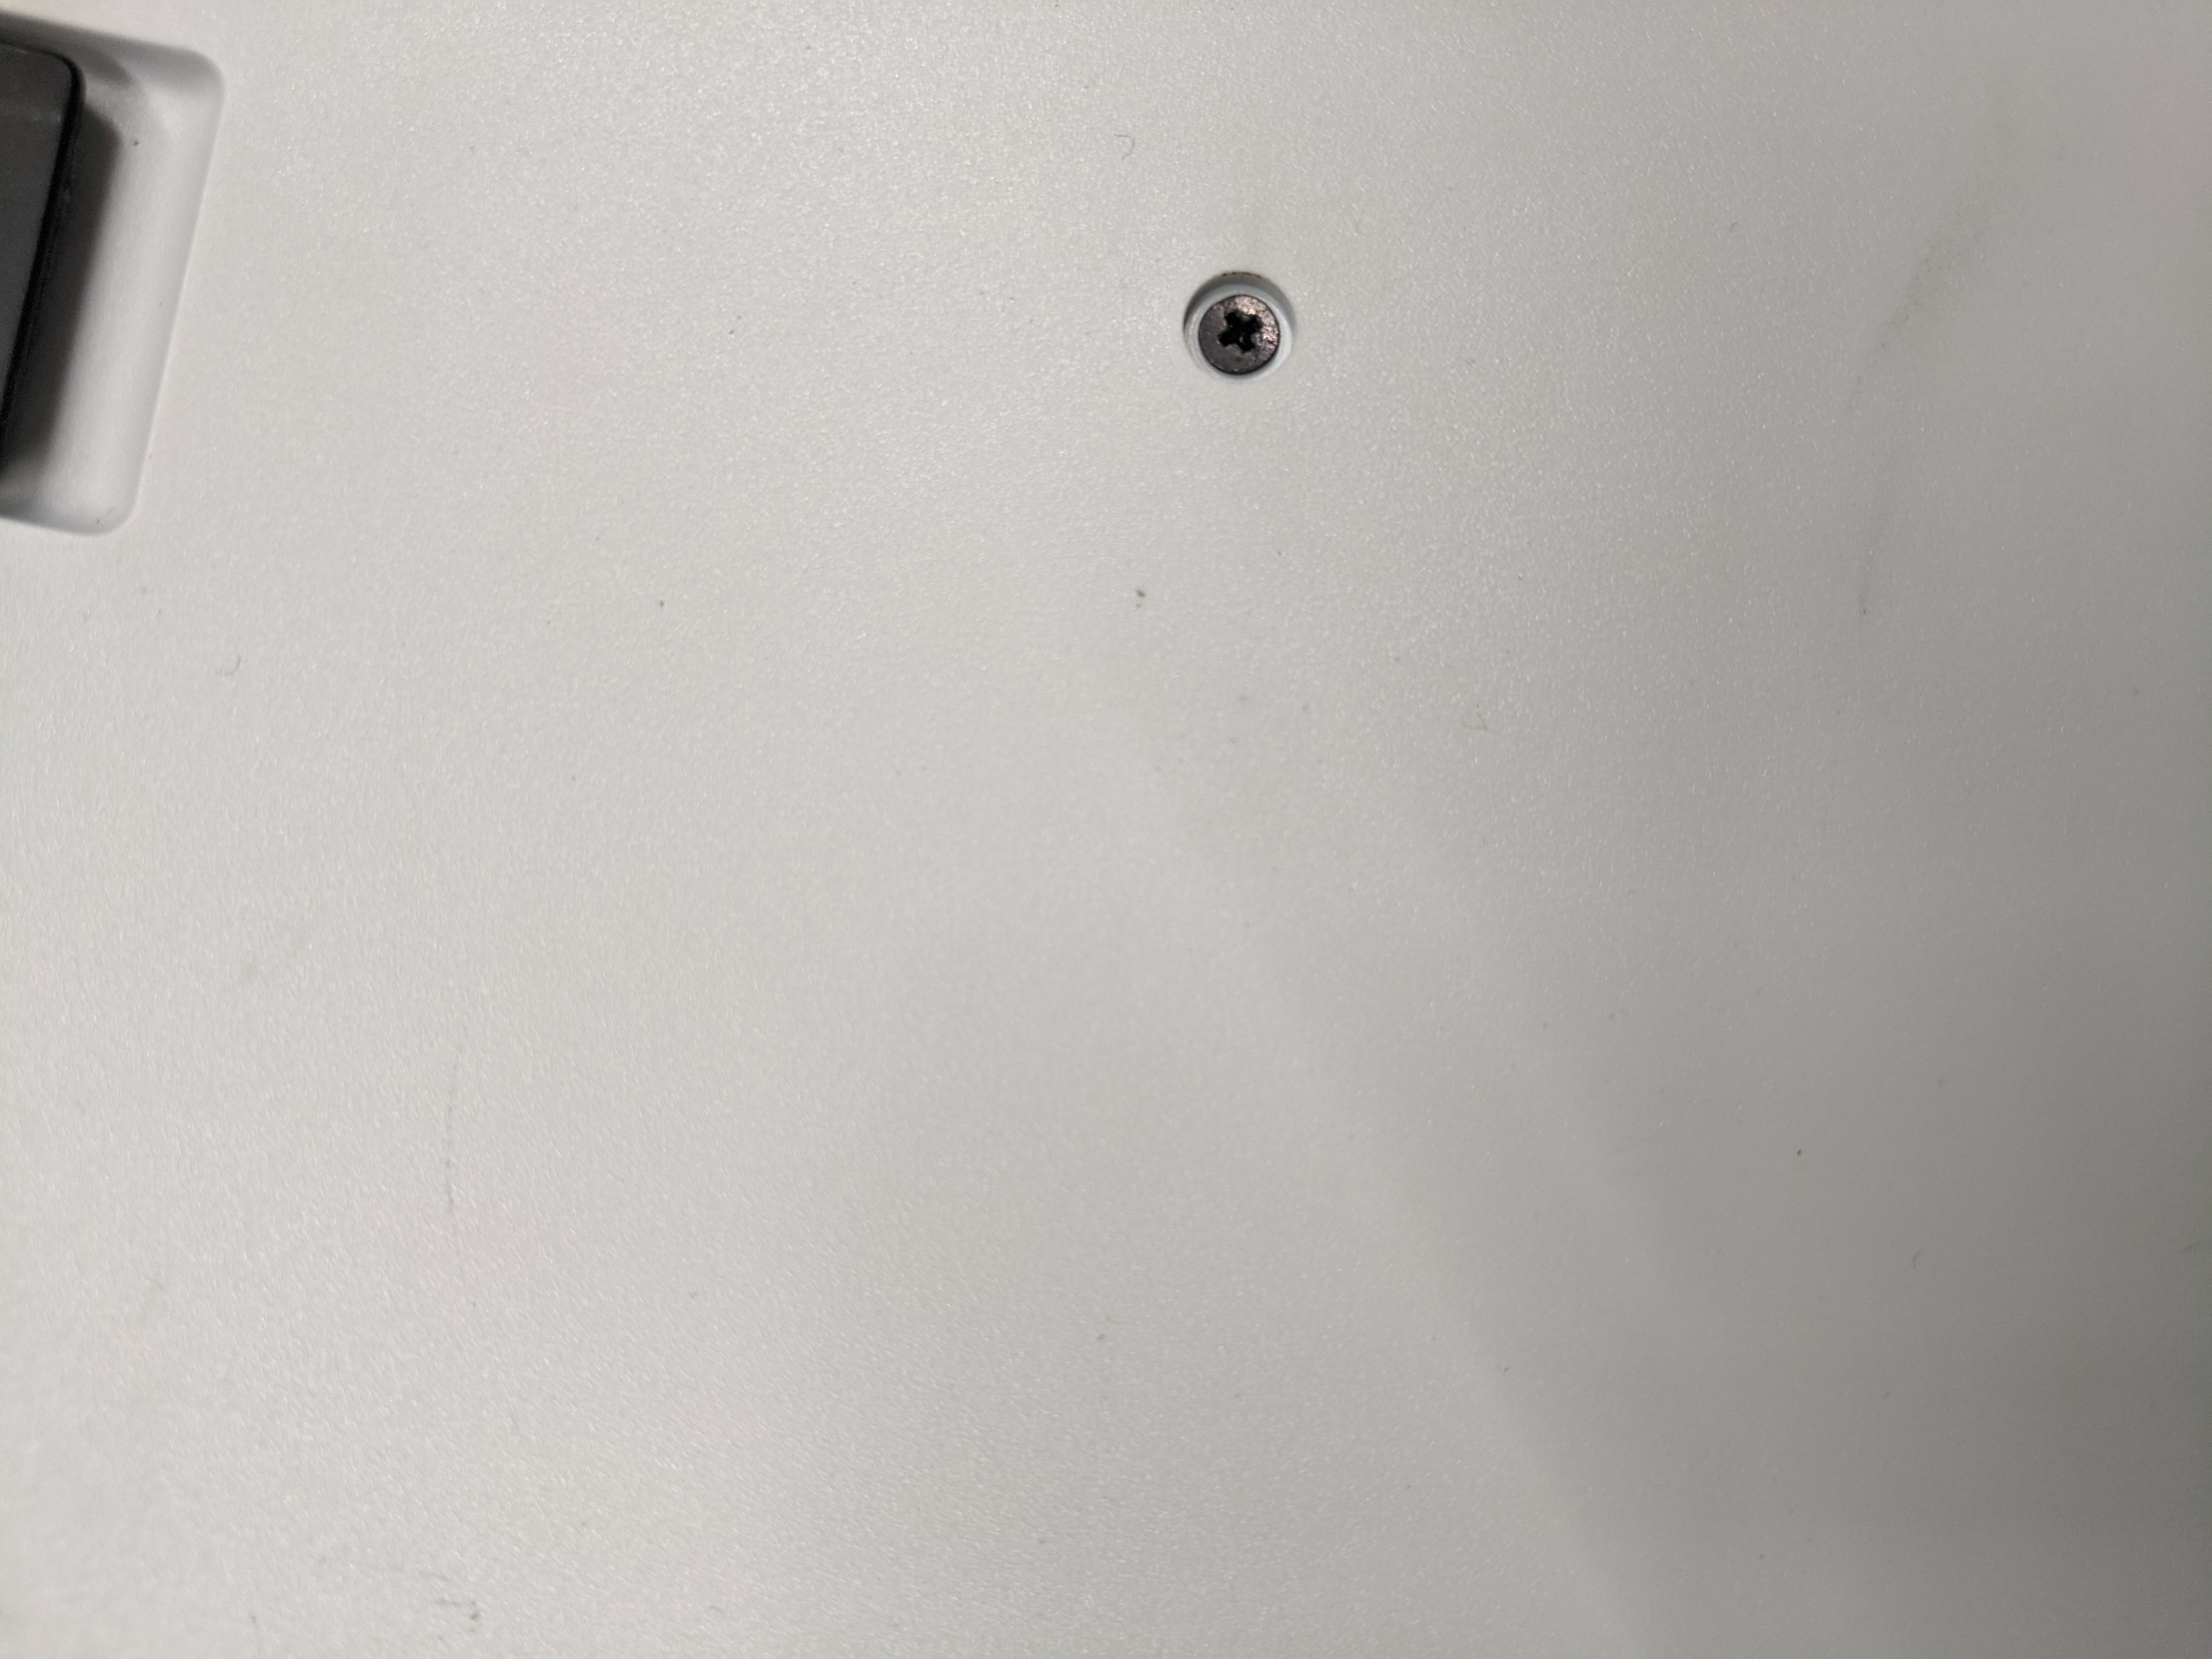cross_recessed_screw: (1198, 277, 1289, 373)
